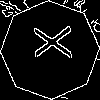X: (25, 25, 71, 60)
